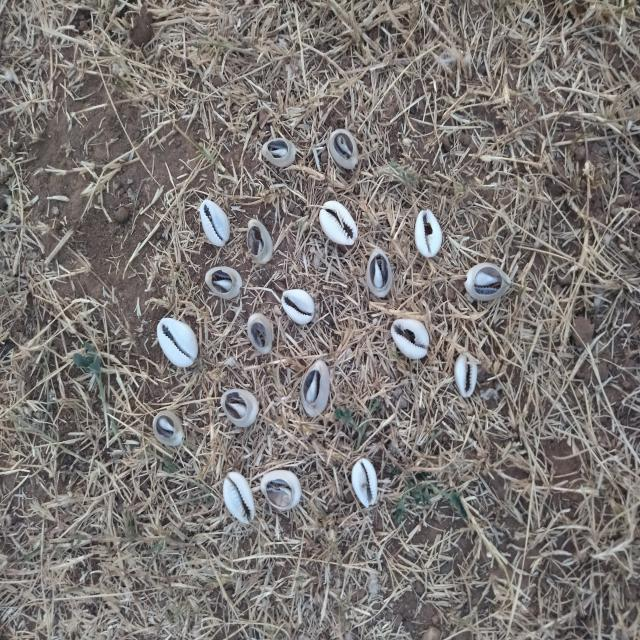facedown: (464, 261, 512, 304), (259, 468, 304, 513), (218, 384, 261, 430), (300, 358, 331, 421), (244, 216, 276, 268), (364, 246, 394, 300), (328, 127, 362, 172), (203, 265, 244, 302), (245, 310, 276, 356), (152, 408, 186, 449), (260, 135, 297, 169)
faceup: (156, 316, 202, 368), (318, 200, 360, 249), (392, 314, 433, 364), (199, 196, 236, 249), (223, 471, 258, 525), (414, 206, 444, 262), (350, 456, 380, 511), (282, 287, 316, 327), (454, 350, 479, 400)
